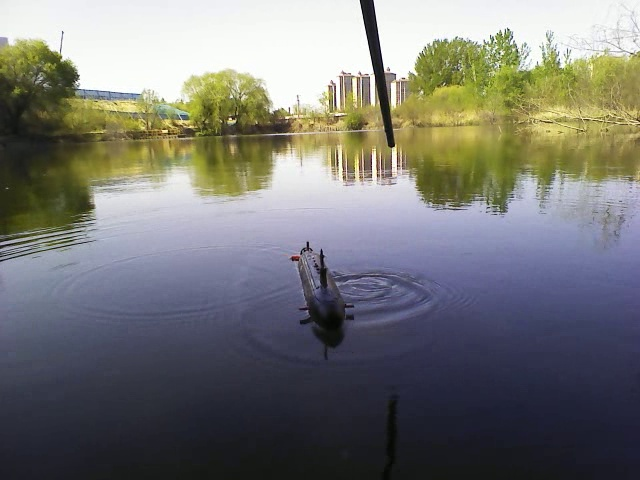submarine: (286, 238, 365, 334)
